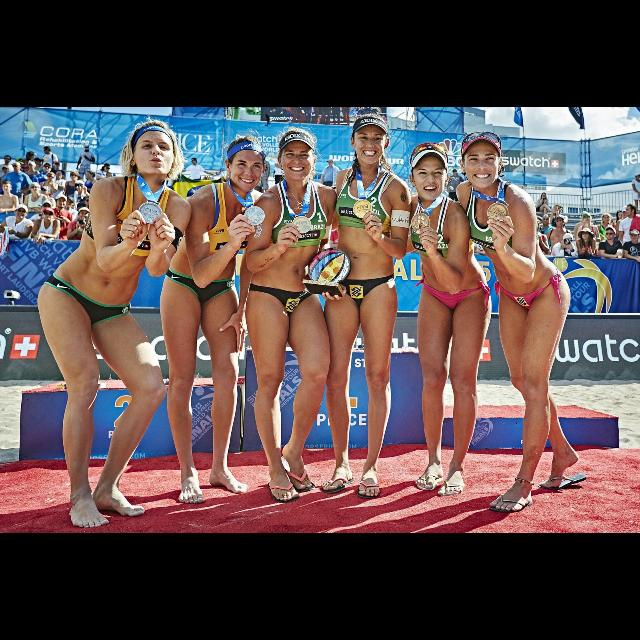head: (128, 123, 178, 177), (225, 135, 267, 193), (409, 148, 451, 202), (276, 130, 318, 182), (460, 138, 502, 190), (350, 114, 390, 166), (14, 204, 28, 220), (42, 208, 56, 220), (79, 208, 91, 222), (56, 195, 68, 209), (2, 182, 14, 194), (606, 227, 616, 241), (564, 233, 574, 247), (626, 205, 636, 217), (555, 216, 565, 228), (42, 202, 52, 214), (30, 182, 40, 194), (75, 181, 85, 193), (532, 218, 540, 232), (581, 230, 591, 240), (70, 172, 80, 182), (13, 162, 23, 172), (42, 187, 52, 196), (622, 208, 630, 218), (583, 214, 591, 224), (602, 214, 610, 224), (542, 216, 550, 226), (66, 198, 74, 208), (85, 197, 93, 207), (86, 170, 94, 180), (581, 211, 589, 221), (603, 214, 611, 223), (554, 204, 562, 213), (2, 166, 10, 174), (47, 173, 55, 181), (55, 171, 63, 179), (44, 164, 52, 172), (28, 162, 36, 170), (28, 151, 36, 159), (44, 146, 52, 154), (618, 210, 624, 220), (5, 156, 12, 164), (34, 158, 41, 166), (328, 159, 334, 167), (260, 153, 266, 161), (191, 158, 197, 166), (104, 165, 110, 173), (54, 161, 60, 169), (84, 144, 90, 152), (452, 170, 458, 177), (278, 156, 284, 162), (542, 192, 546, 200)
person: (35, 114, 196, 532), (417, 129, 591, 515), (365, 140, 493, 498), (242, 123, 354, 509), (160, 129, 268, 507), (320, 111, 414, 503), (0, 204, 34, 280), (26, 201, 64, 269), (544, 214, 574, 292), (30, 206, 62, 278), (65, 207, 95, 283), (0, 160, 34, 223), (49, 194, 75, 276), (525, 218, 551, 292), (598, 227, 626, 295), (572, 210, 596, 284), (550, 232, 578, 294), (576, 212, 602, 278), (22, 181, 50, 241), (176, 156, 214, 196), (534, 212, 558, 272), (1, 180, 22, 248), (575, 226, 597, 290), (596, 212, 618, 276), (548, 202, 570, 262), (596, 212, 618, 268), (616, 205, 636, 265), (59, 196, 79, 256), (320, 157, 342, 210), (68, 180, 92, 228), (39, 172, 60, 224), (444, 169, 466, 215), (610, 208, 628, 260), (81, 196, 99, 248), (35, 184, 57, 226), (272, 152, 292, 198), (1, 155, 18, 207), (63, 170, 83, 214), (33, 162, 53, 206), (76, 144, 96, 188), (17, 150, 37, 193), (254, 151, 272, 197), (41, 146, 61, 186), (50, 161, 68, 203), (51, 170, 68, 214), (0, 165, 16, 209), (23, 160, 41, 198), (95, 162, 113, 198), (82, 170, 100, 206), (534, 191, 556, 219), (32, 156, 48, 190)
